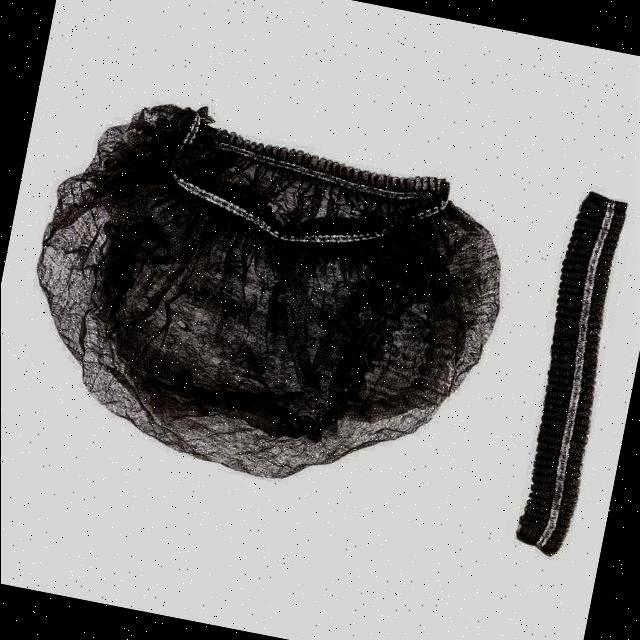gloves: (54, 53, 502, 540)
